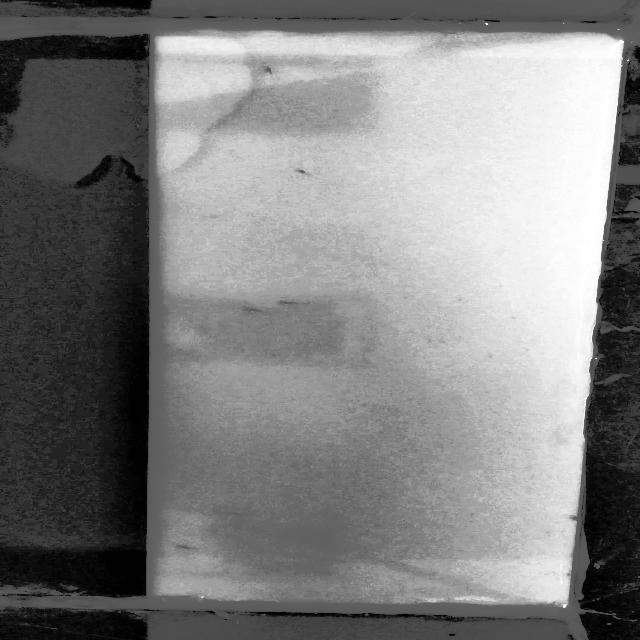shrimp: (274, 298, 314, 306), (293, 167, 317, 177), (260, 63, 276, 76), (223, 509, 245, 517), (243, 306, 263, 314), (175, 543, 192, 551)
